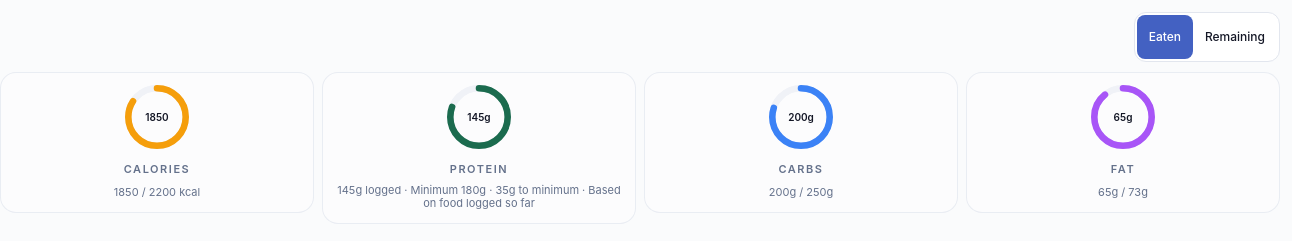
MacroRings › toggles to remaining mode and shows inverse progress labels
This screenshot has width=1292, height=241.
What coordinates should you click on to do the following:
click the button "Remaining"
I would click on:
 (1235, 37)
Its box is [1193,15,1277,59].
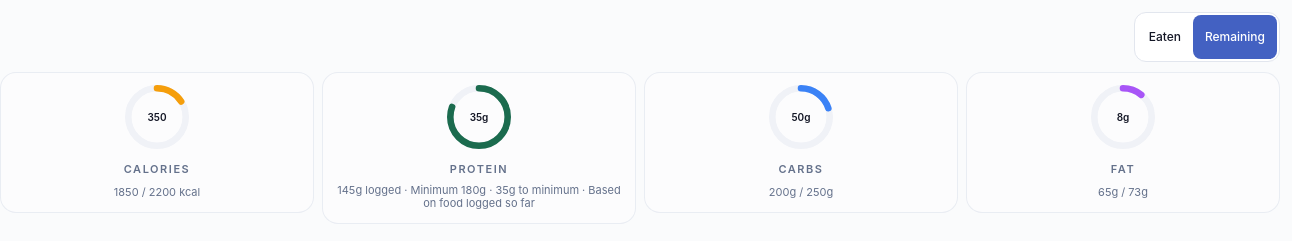
expect the text "350" is shown: met, box [148,111,167,123]
expect the text "35g" is shown: met, box [470,111,488,123]
expect the text "50g" is shown: met, box [792,111,810,123]
